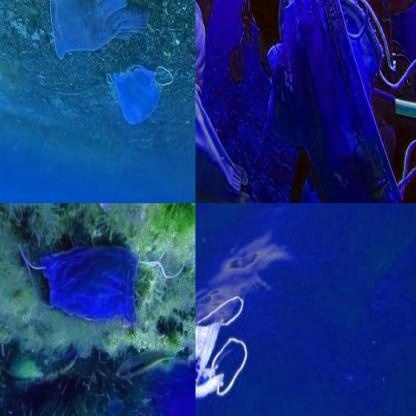Mask: (284, 0, 409, 202), (17, 245, 188, 325), (312, 0, 386, 113), (196, 284, 248, 410), (195, 83, 242, 202), (107, 61, 176, 129)
glove: (50, 0, 151, 66)
